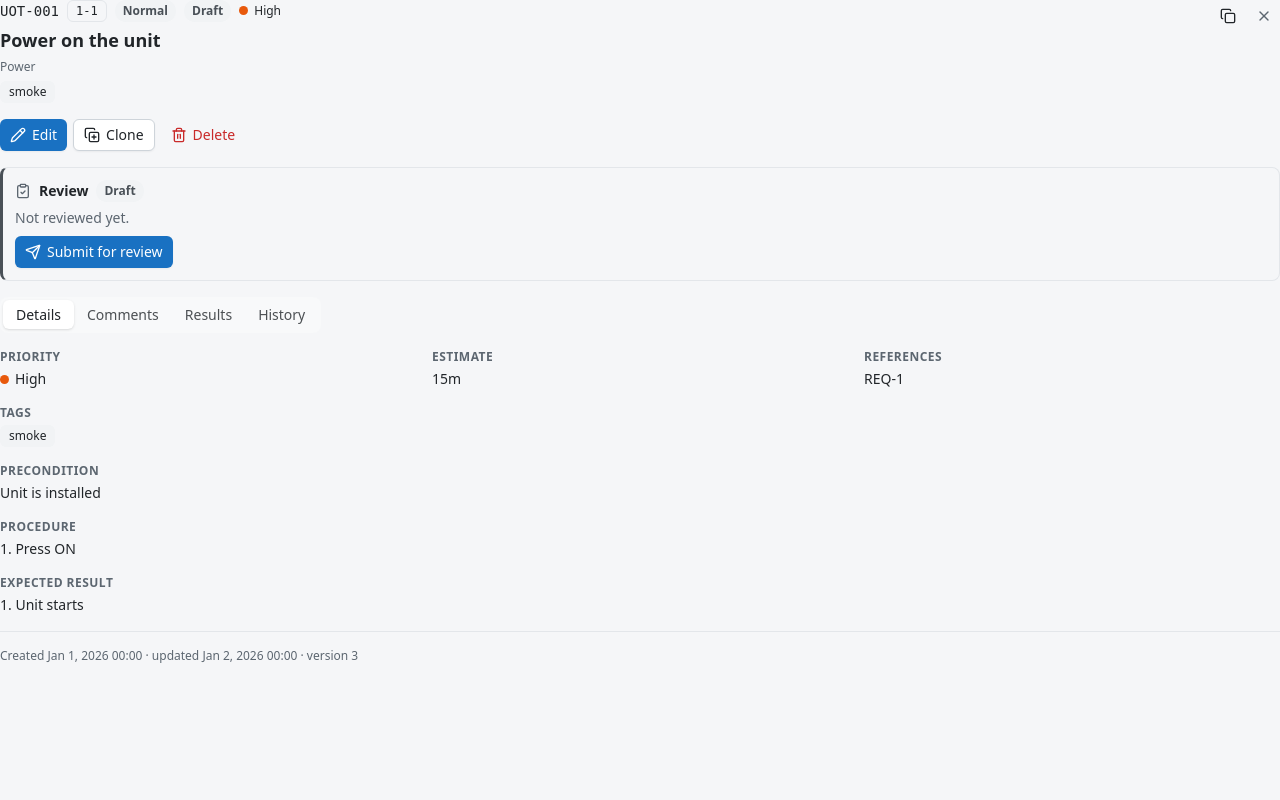
Test case: CaseDetail › shows a rejected reviewer at the field
The image size is (1280, 800).
Click the button "Submit for review".
click(94, 252)  # box top-left (15, 236), bottom-right (172, 268)
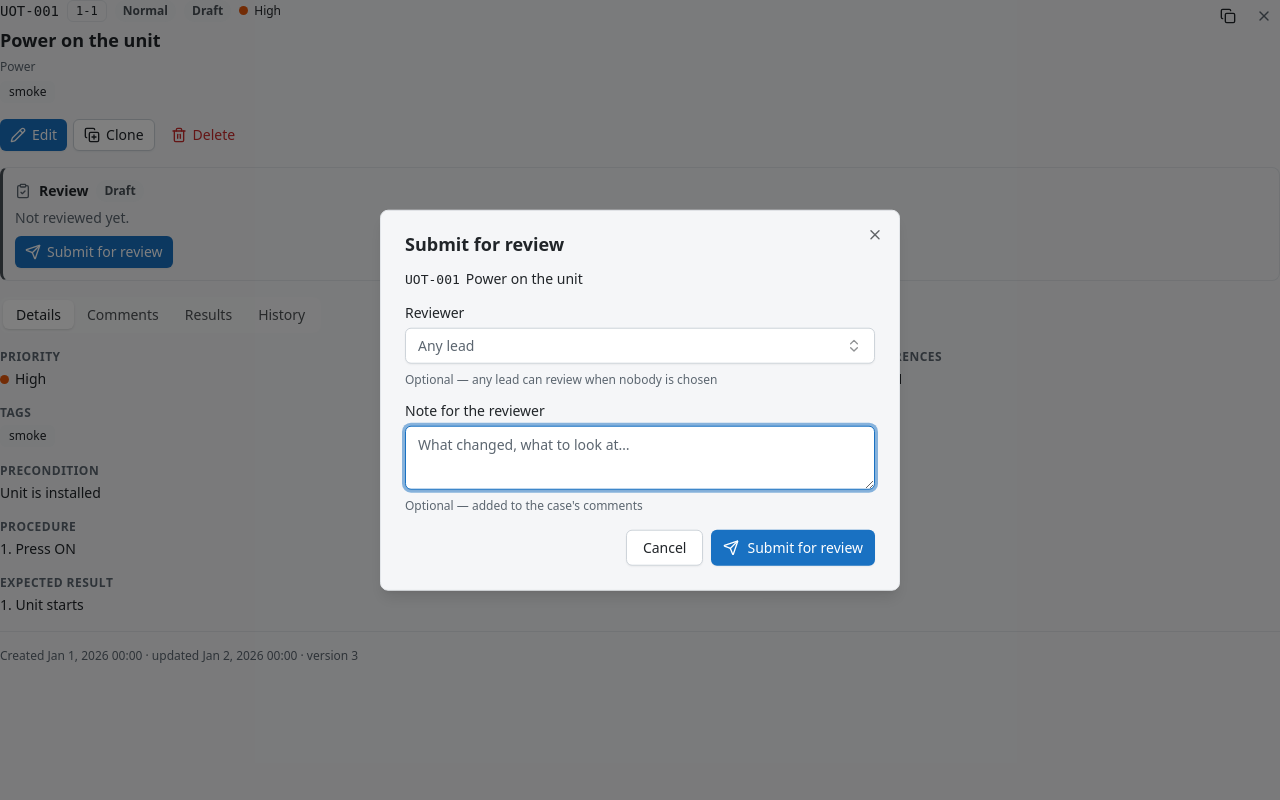
Click the button "Submit for review".
click(793, 547)  # box top-left (712, 529), bottom-right (875, 565)
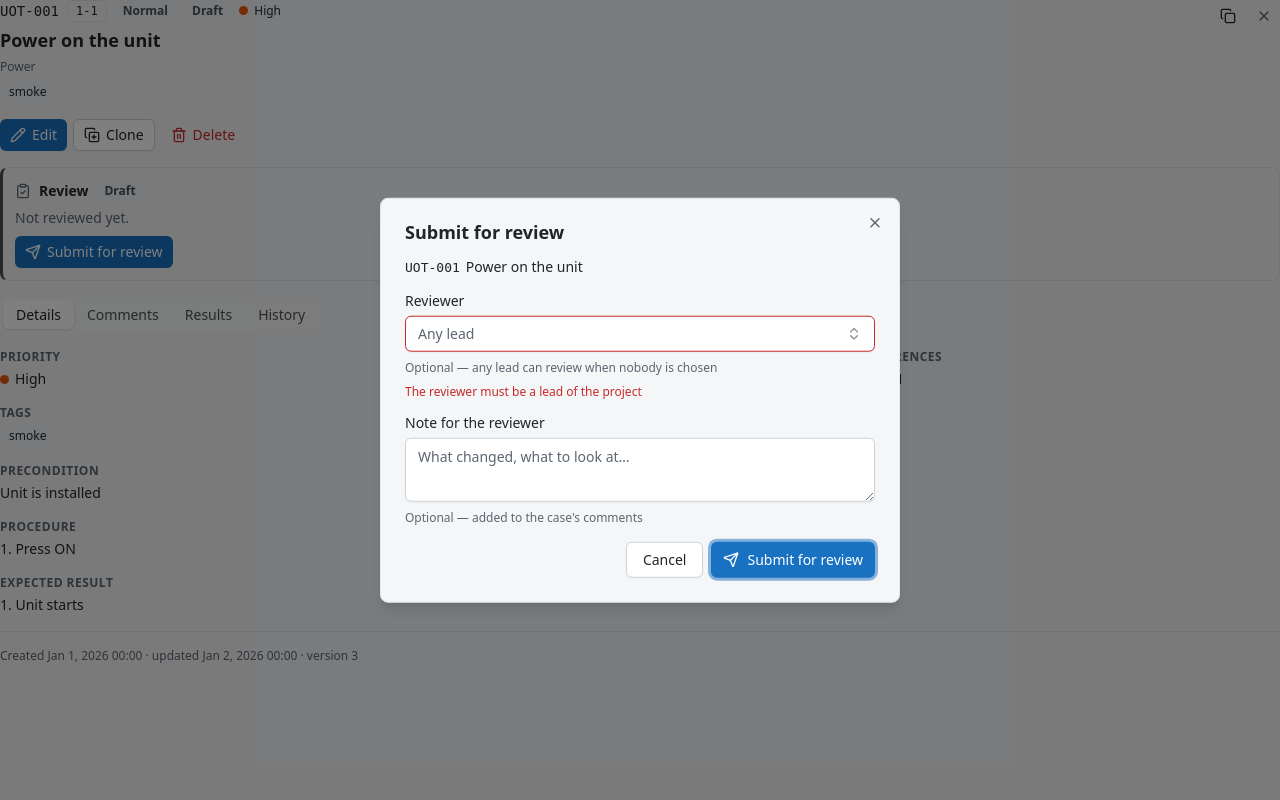
Now the text "The reviewer must be a lead of the project" is shown, box top-left (405, 382), bottom-right (642, 399)
